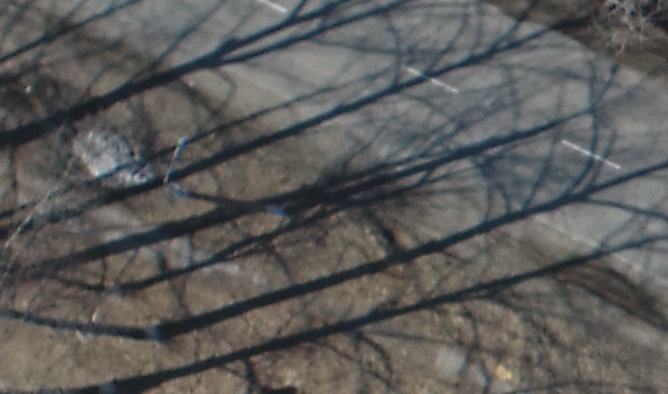opora: (162, 129, 338, 221)
